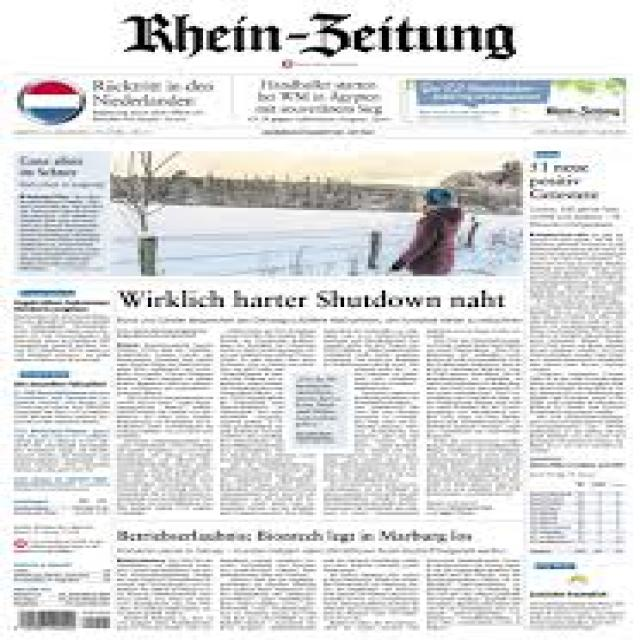paper: (23, 0, 640, 637)
